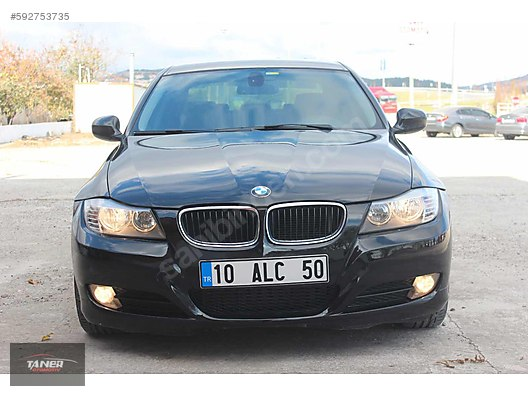bmw: (69, 53, 452, 338)
